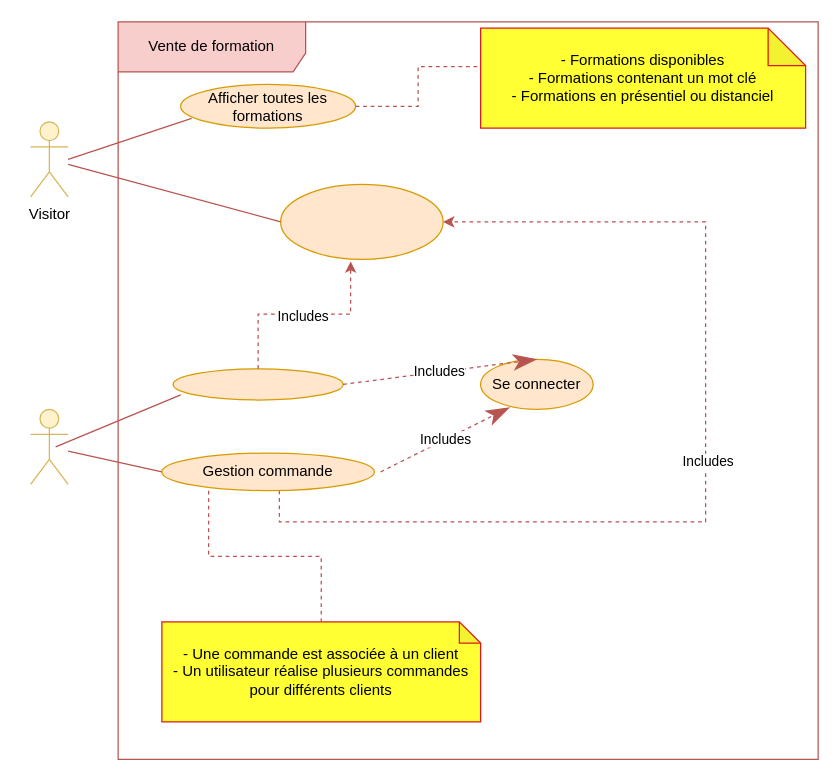
Some shapes in this 840 by 781 pixel diagram are drawn without their labels. The centre of each missing label's shape, as x and y in pixels:
Créer un compte (login + password): [361,221]
Gestion panier: [257,384]
Membre: [48,446]
